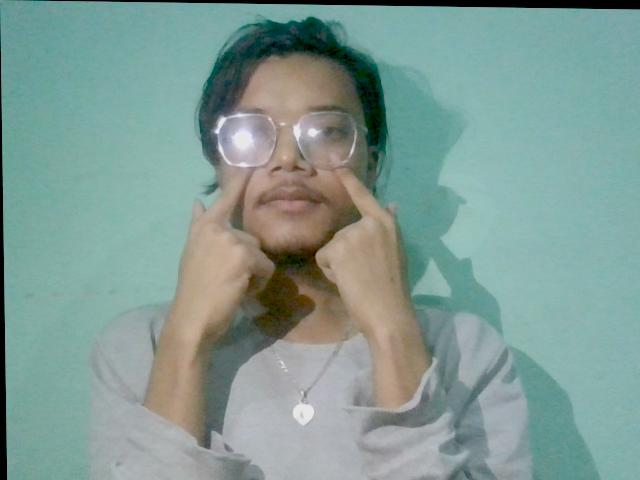Cry: (162, 149, 442, 352)
